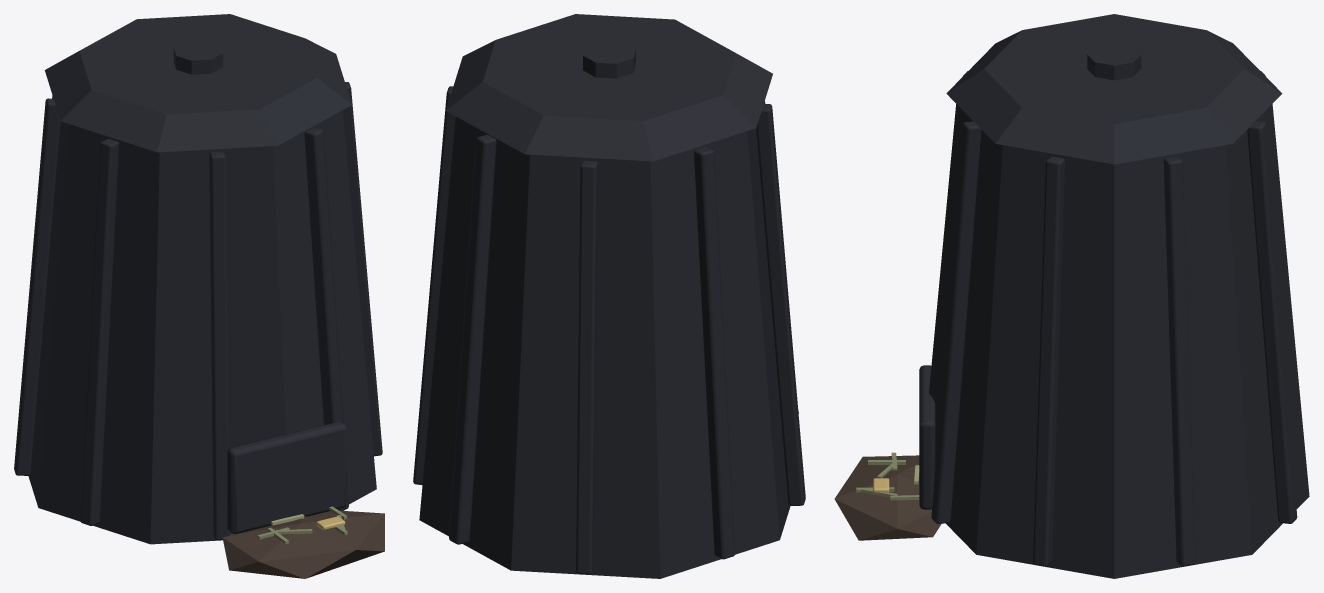
The model's file is compost_bin.fbx.
3 renders of one model, left to right at view 1: azimuth 30°, elevation 25°; view 2: azimuth 150°, elevation 25°; view 3: azimuth 270°, elevation 25°, orthographic. The views are drawn at different scales.
Visible parts, largest first — view 1: compost_bin; view 2: compost_bin; view 3: compost_bin.
Boxes of the visible parts, x1=… form: compost_bin: x1=14, y1=14, x2=384, y2=578; compost_bin: x1=413, y1=14, x2=805, y2=578; compost_bin: x1=834, y1=14, x2=1309, y2=578.
Bounding box in the file's own units: 0.72 × 0.8763 × 0.9485.
